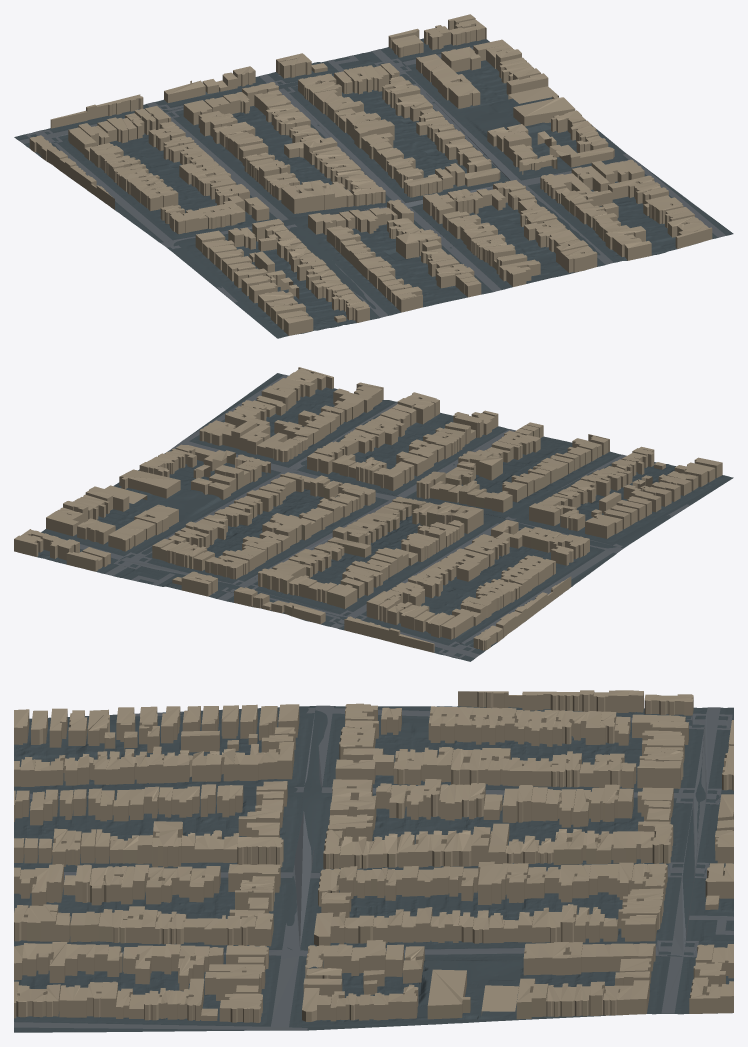
File: epsg26910-1424-10888.lod0.glb
The picture shows the model from 3 angles, top to bottom: view 1: azimuth 30°, elevation 25°; view 2: azimuth 150°, elevation 25°; view 3: azimuth 270°, elevation 25°; orthographic projection. The views are drawn at different scales.
Visible parts, largest first — view 1: epsg26910-1424-10888-lod0; view 2: epsg26910-1424-10888-lod0; view 3: epsg26910-1424-10888-lod0.
Part boxes in pixels (<box>): epsg26910-1424-10888-lod0: <box>14,14,733,338</box>; epsg26910-1424-10888-lod0: <box>14,367,733,661</box>; epsg26910-1424-10888-lod0: <box>14,690,733,1032</box>.
Bounding box in the file's own units: 384 × 26.6 × 384.
